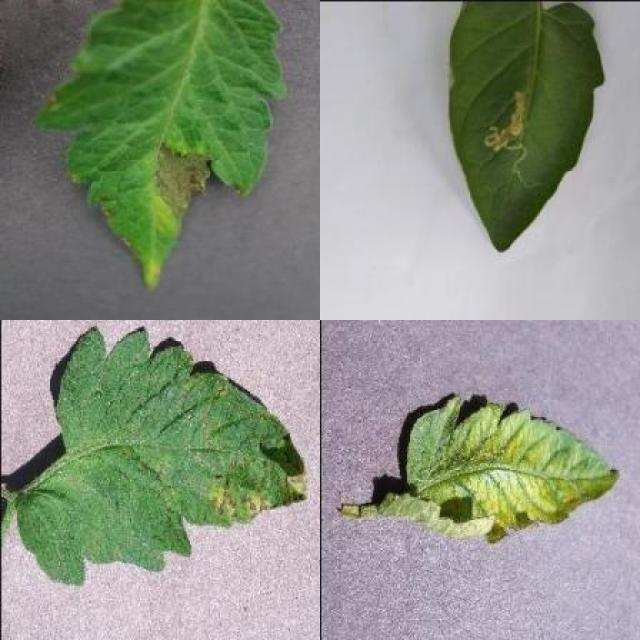Late Blight: (30, 0, 289, 287)
Leaf Miner: (447, 0, 607, 251)
Mosaic Virus: (404, 396, 619, 544)
Septoria: (12, 329, 308, 594)
